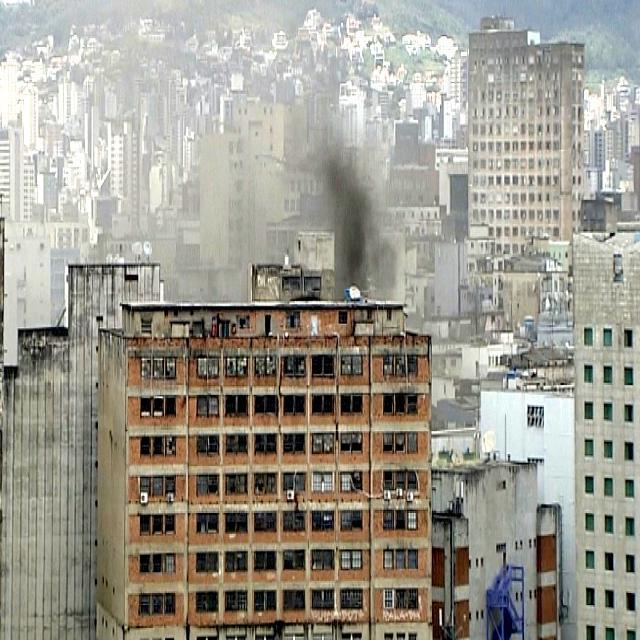Smoke: (259, 70, 401, 310)
